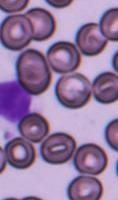L: (0, 78, 32, 125)
